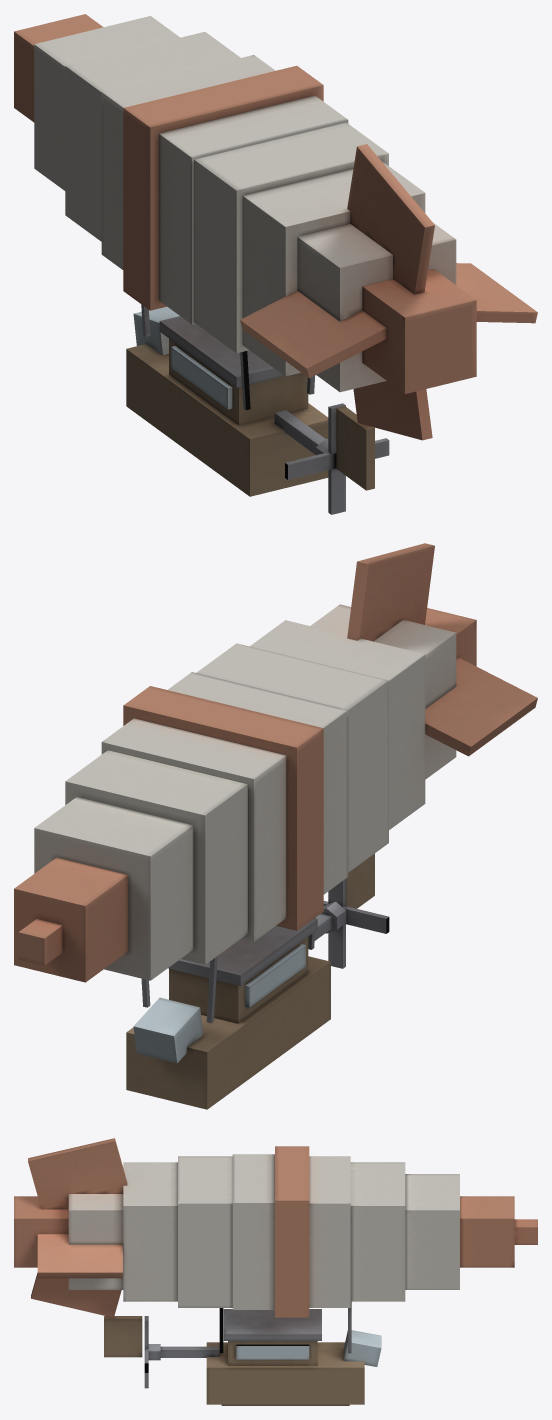
Rendered from airship.glb.
3 renders of one model, top to bottom at view 1: azimuth 30°, elevation 25°; view 2: azimuth 150°, elevation 25°; view 3: azimuth 270°, elevation 25°, orthographic. The views are drawn at different scales.
Visible parts, largest first — view 1: airship; view 2: airship; view 3: airship.
Boxes of the visible parts, x1,y1,x2,y2 form: airship: (14, 14, 537, 514); airship: (14, 543, 537, 1109); airship: (14, 1138, 537, 1405).
Bounding box in the file's own units: 7.99 × 13.32 × 24.5.
5 materials, 5 textured.
